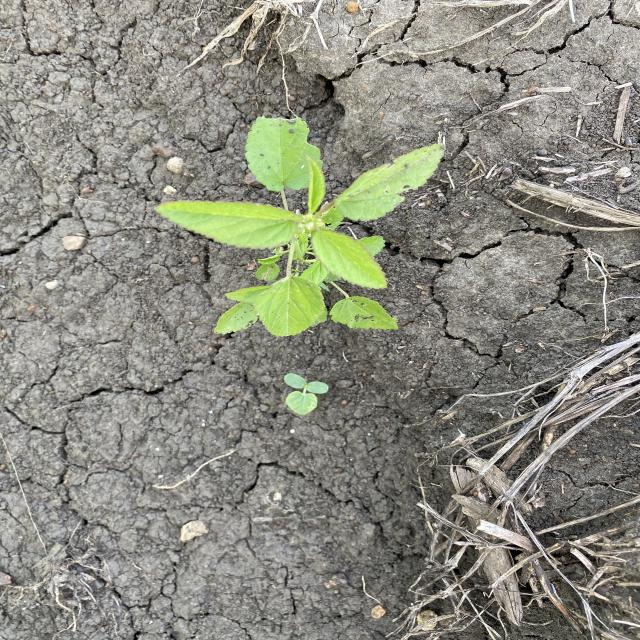PricklySida: (151, 114, 448, 340)
